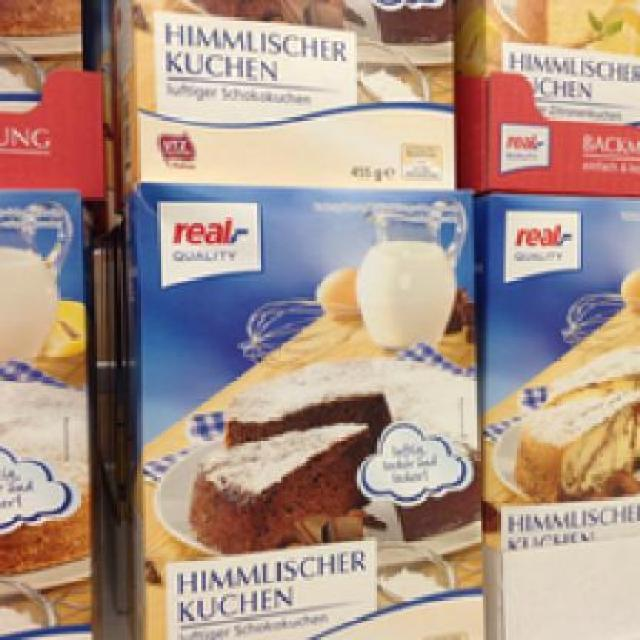Cake: (117, 192, 490, 638), (474, 179, 637, 592)
